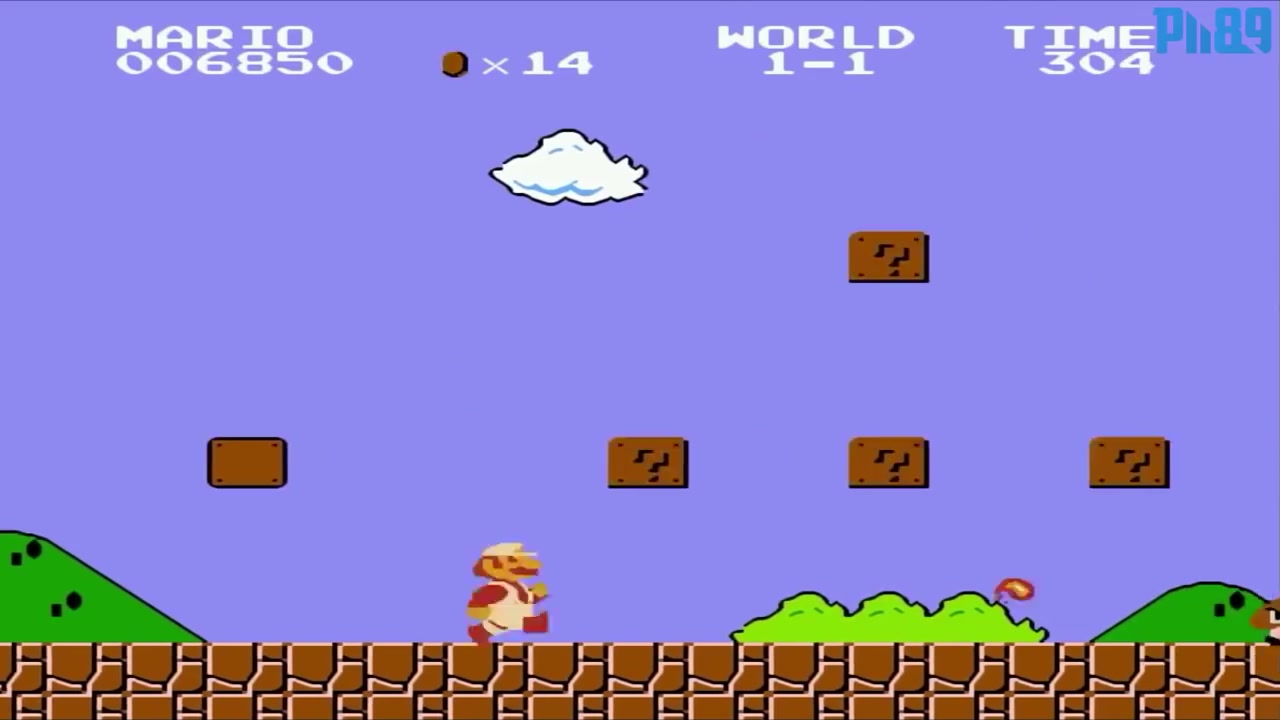mario: (461, 530, 563, 644)
